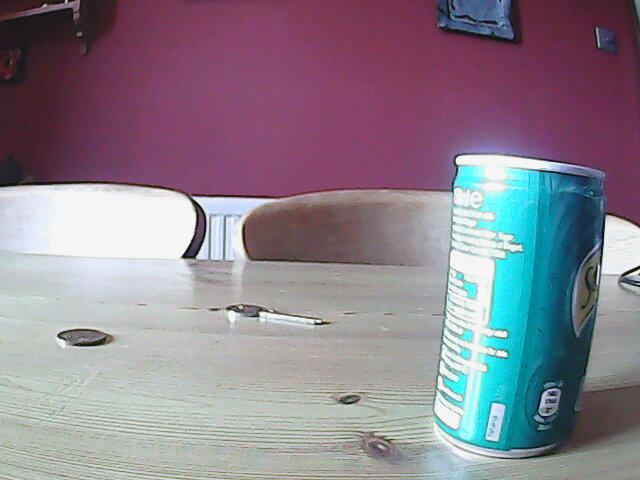Can: (429, 151, 611, 467)
Coin: (54, 326, 111, 350)
Key: (220, 300, 329, 334)
